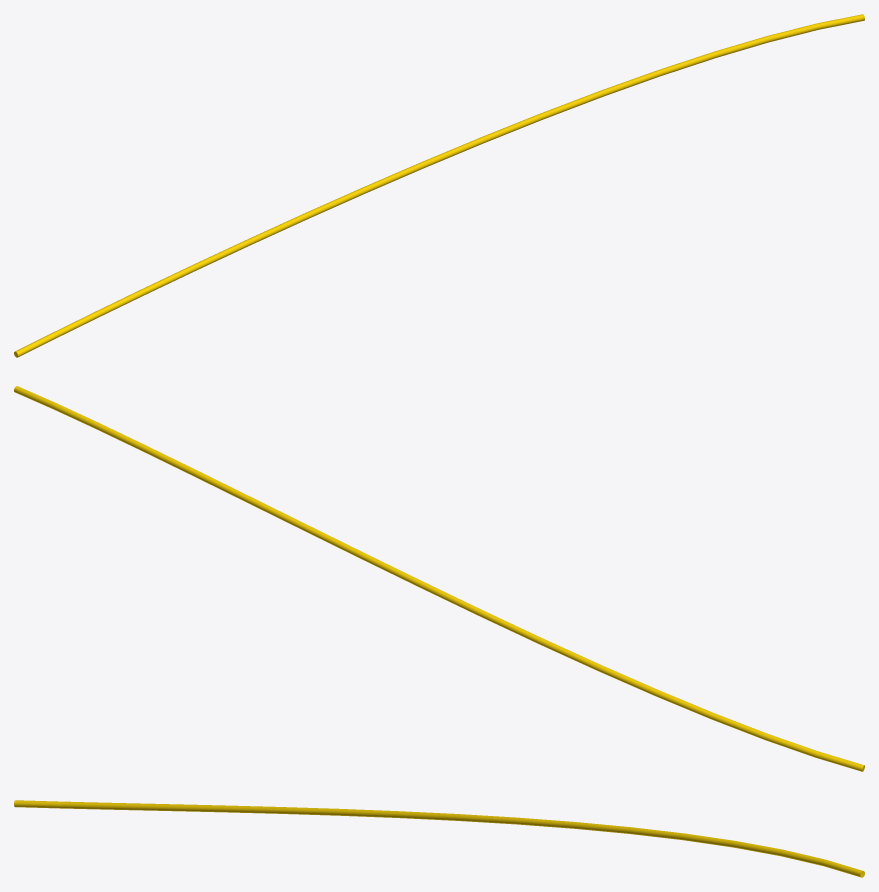
Rendered from Event_421115418_track_162.fbx.
3 views of the same model, one above another, from view 1: azimuth 30°, elevation 25°; view 2: azimuth 150°, elevation 25°; view 3: azimuth 330°, elevation 25° (orthographic). The views are drawn at different scales.
Parts seen in each view (by area): view 1: Model; view 2: Model; view 3: Model.
Boxes of the visible parts, <box> form: Model: <box>14,14,864,357</box>; Model: <box>14,386,864,771</box>; Model: <box>14,800,864,877</box>.
Bounding box in the file's own units: 5.74 × 1.02 × 0.381.
